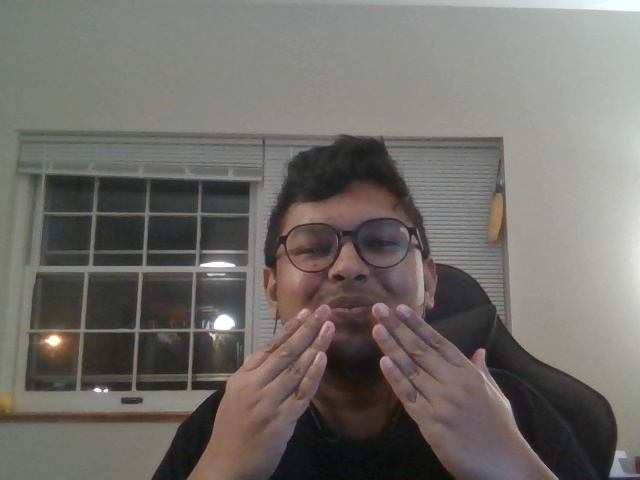thanks: (186, 284, 575, 480)
